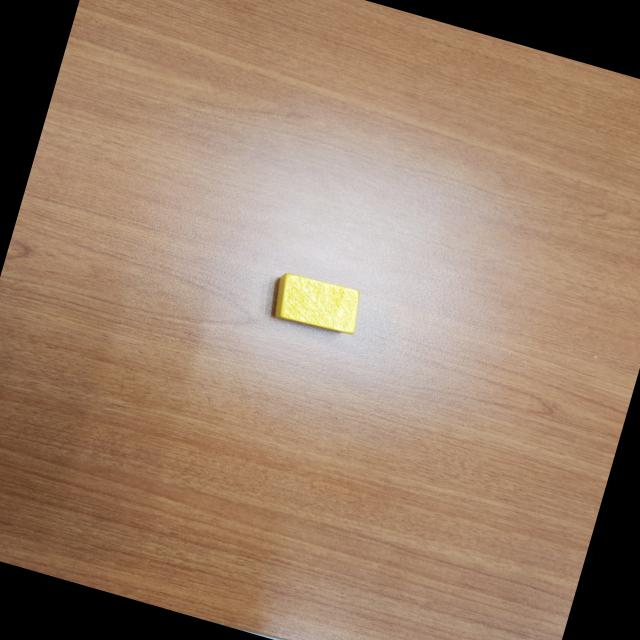yellow: (264, 268, 366, 340)
